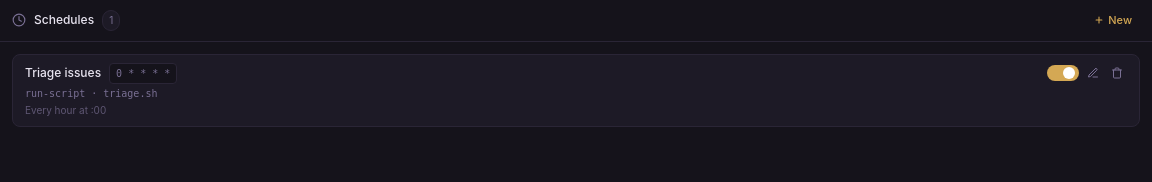
Test: SchedulerPanel › shows error banner when toggle fails
Click the button with test id "schedule-toggle": (1063,72) [1047, 64, 1079, 80]
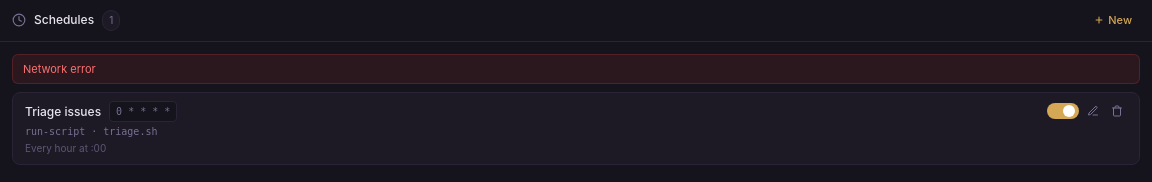
Check: the text "Network error" is shown, box [12, 54, 1140, 84]
